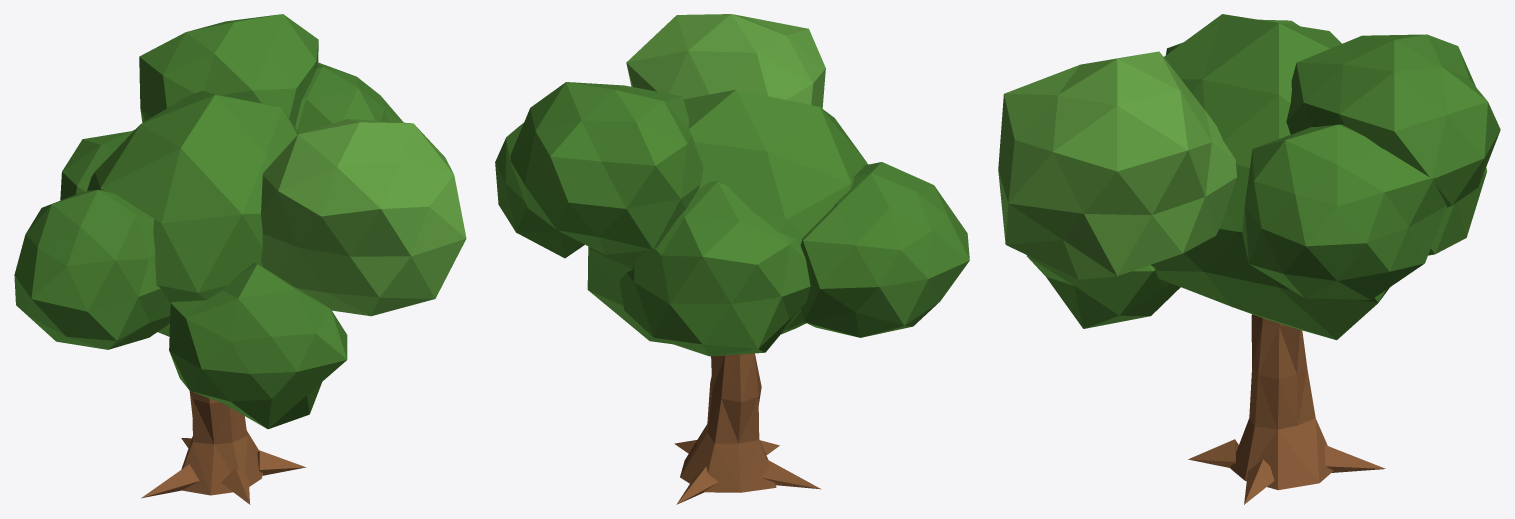
File: HS_LP_Tree_Hornbeam_01.fbx
3 renders of one model, left to right at view 1: azimuth 30°, elevation 25°; view 2: azimuth 150°, elevation 25°; view 3: azimuth 270°, elevation 25°, orthographic. The views are drawn at different scales.
Parts seen in each view (by area): view 1: HS_LP_Tree_Hornbeam_01; view 2: HS_LP_Tree_Hornbeam_01; view 3: HS_LP_Tree_Hornbeam_01.
Part boxes in pixels (x1=…): HS_LP_Tree_Hornbeam_01: x1=14, y1=14, x2=466, y2=504; HS_LP_Tree_Hornbeam_01: x1=495, y1=14, x2=969, y2=504; HS_LP_Tree_Hornbeam_01: x1=998, y1=14, x2=1500, y2=504.
Size of the model in its own units: 442 by 415 by 403.
